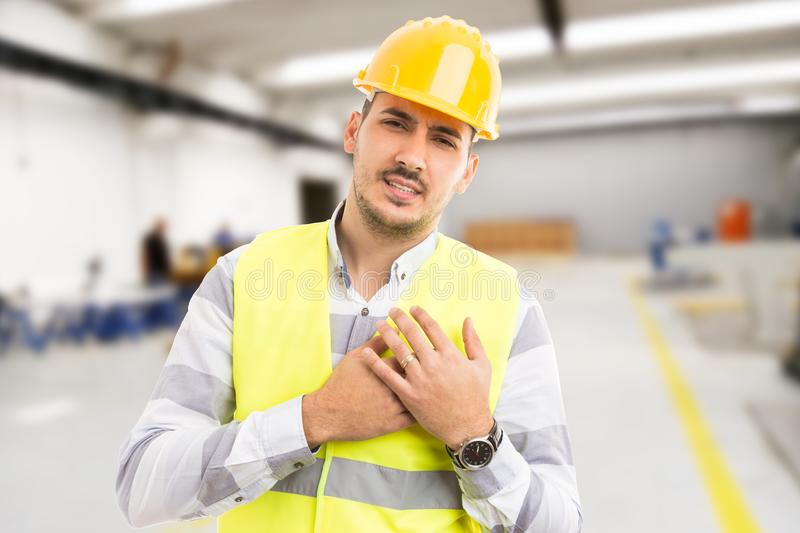Helmet: (352, 11, 519, 144)
